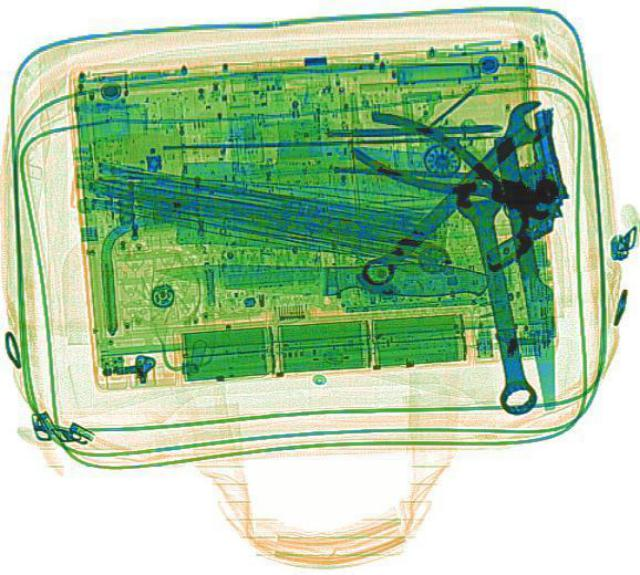Gun: (455, 106, 581, 272)
Knife: (494, 133, 572, 408), (152, 256, 488, 297)
Pliers: (341, 102, 554, 230)
Wrench: (348, 90, 566, 293), (449, 174, 547, 415)
